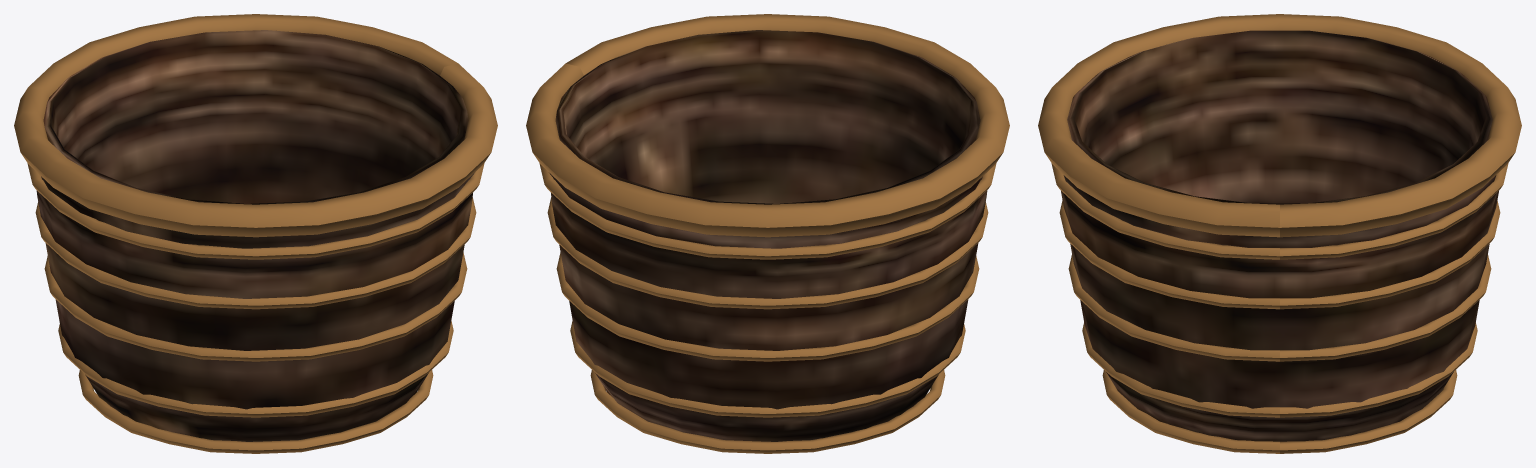
File: basket.glb
The picture shows the model from 3 angles, left to right: view 1: azimuth 30°, elevation 25°; view 2: azimuth 150°, elevation 25°; view 3: azimuth 270°, elevation 25°; orthographic projection.
Parts seen in each view (by area): view 1: part_0, part_1; view 2: part_0, part_1; view 3: part_0, part_1.
Boxes of the visible parts, <box> form: part_0: <box>36,30,474,441</box>; part_1: <box>14,14,497,453</box>; part_0: <box>549,30,987,441</box>; part_1: <box>526,14,1009,453</box>; part_0: <box>1061,30,1498,441</box>; part_1: <box>1038,14,1521,453</box>.
Bounding box in the file's own units: 0.3546 × 0.2194 × 0.3546.
2 materials, 1 textured.
